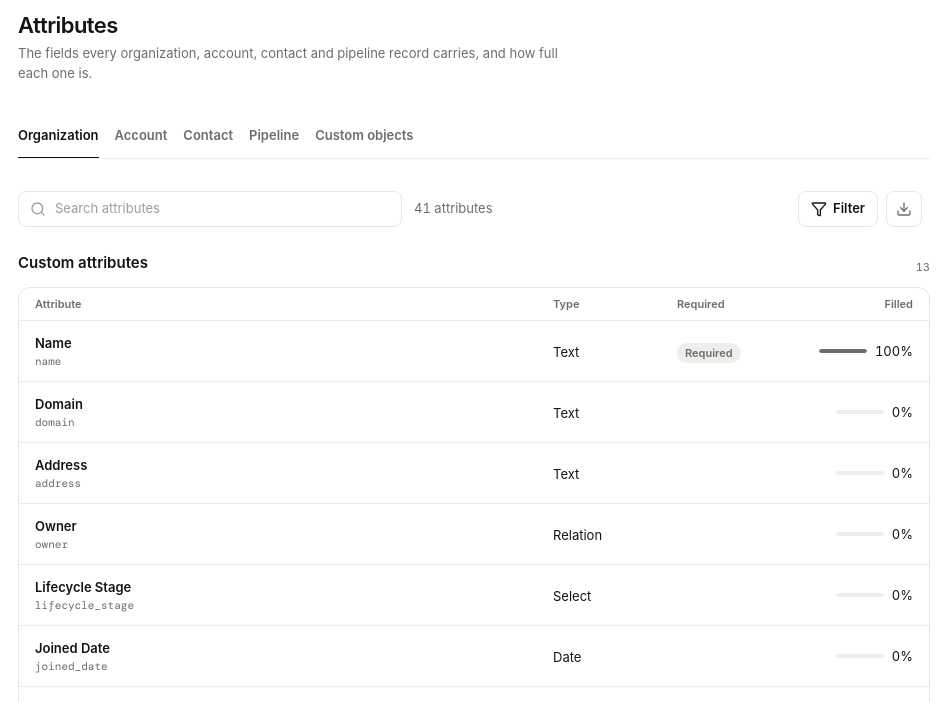
Test: SettingsPage — Data tab, Contact sub-tab › searching filters the attribute list by display name or field name
Click the tab "Contact" at (208, 136), box x1=183 y1=114 x2=233 y2=158
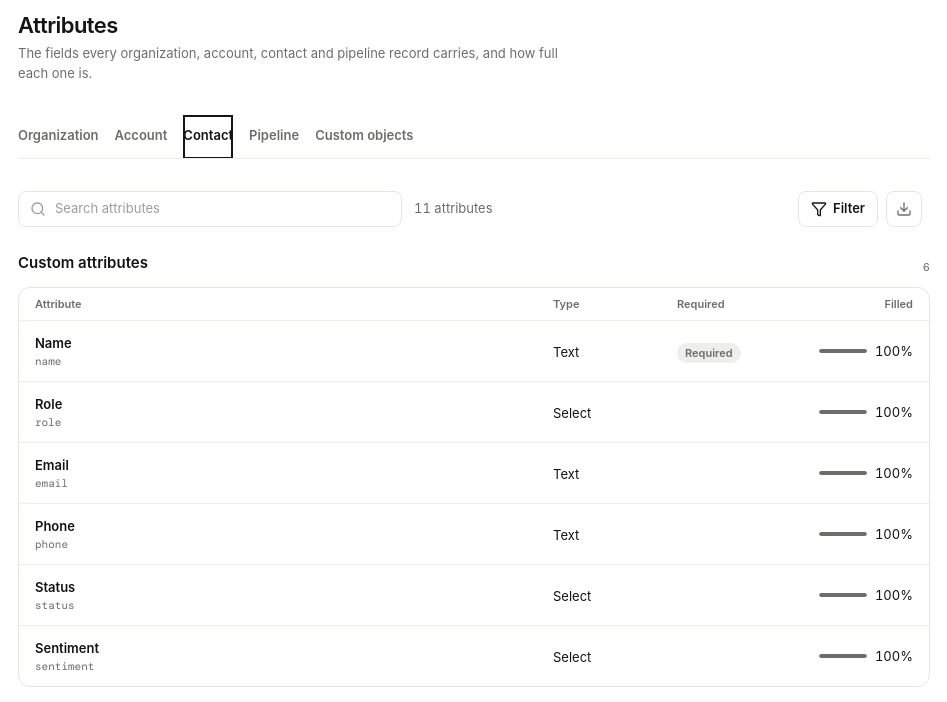
Expected: the element "Custom attributes" is shown, x1=18 y1=251 x2=930 y2=687
Result: the text "Sentiment" is shown at x1=35 y1=640 x2=99 y2=656
Type "sentiment" into the search field labelled "Search attributes" at (210, 209), box x1=18 y1=191 x2=402 y2=227
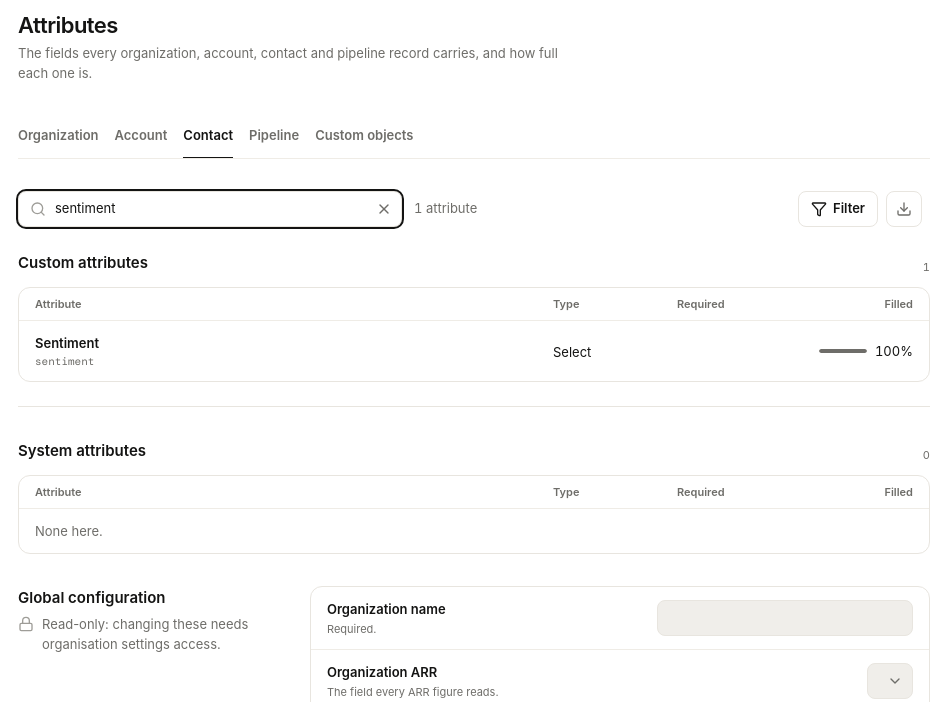
Result: the text "Sentiment" is shown at x1=35 y1=335 x2=99 y2=351
Result: the text "Email" is gone
